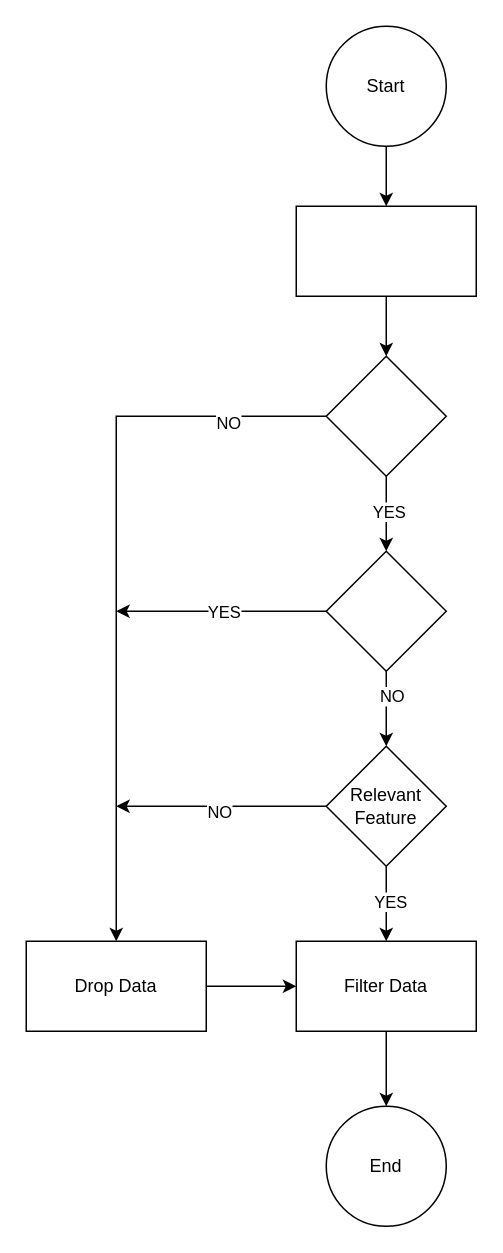
This 503x1253 diagram has some shape labels left out. Each missing label, with the centre of its shape:
"Device Desktop" goes at point 385,415.
"Load Data" goes at point 385,250.
"Null Value" goes at point 385,610.
